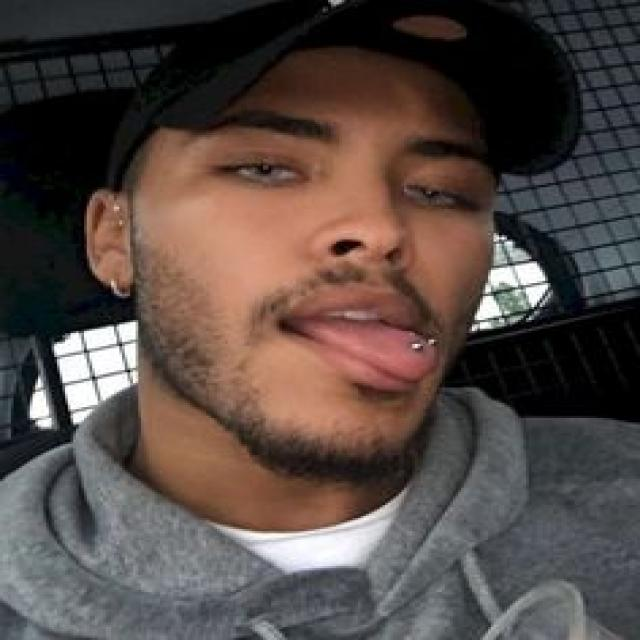earlobe: (94, 245, 134, 293)
eye: (399, 183, 482, 218), (226, 158, 314, 190)
nose: (311, 235, 430, 287)
wholeear: (84, 188, 134, 293)
